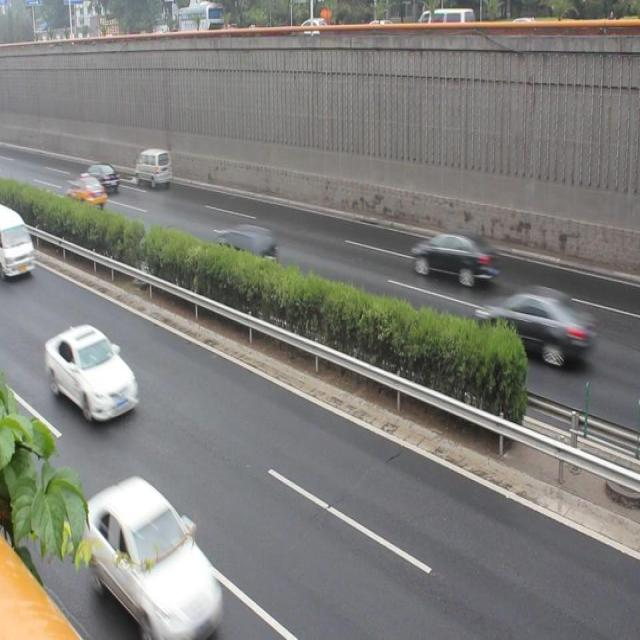car: (84, 475, 234, 633), (44, 320, 144, 428), (474, 281, 595, 366), (407, 224, 500, 290), (206, 218, 279, 279)
truck: (1, 206, 38, 288), (135, 144, 174, 188)
